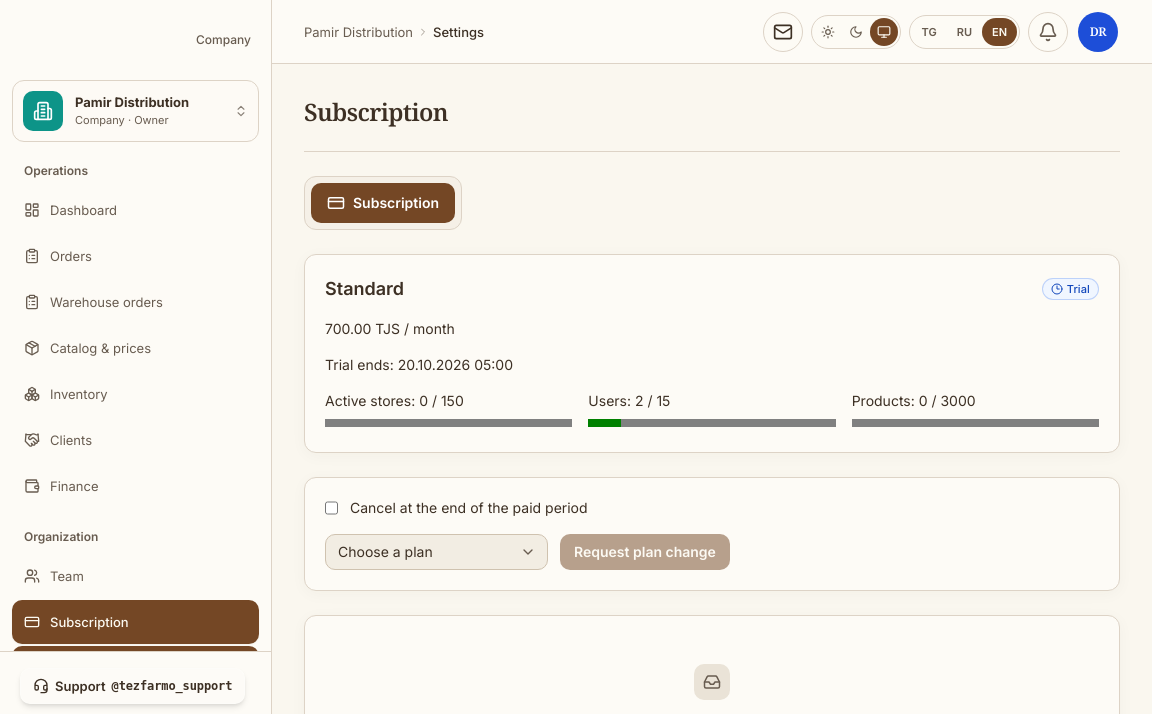
Test: shows company status, limits and payment history and captures tenant for plan requests
Check: the heading "Standard" is shown, box top-left (325, 275), bottom-right (404, 303)
Check: the text "Users: 2 / 15" is shown, box top-left (588, 392), bottom-right (670, 409)
Select "STANDARD — 700.00 TJS" in the dropdown named "Plan" at (436, 552), box top-left (325, 534), bottom-right (548, 570)
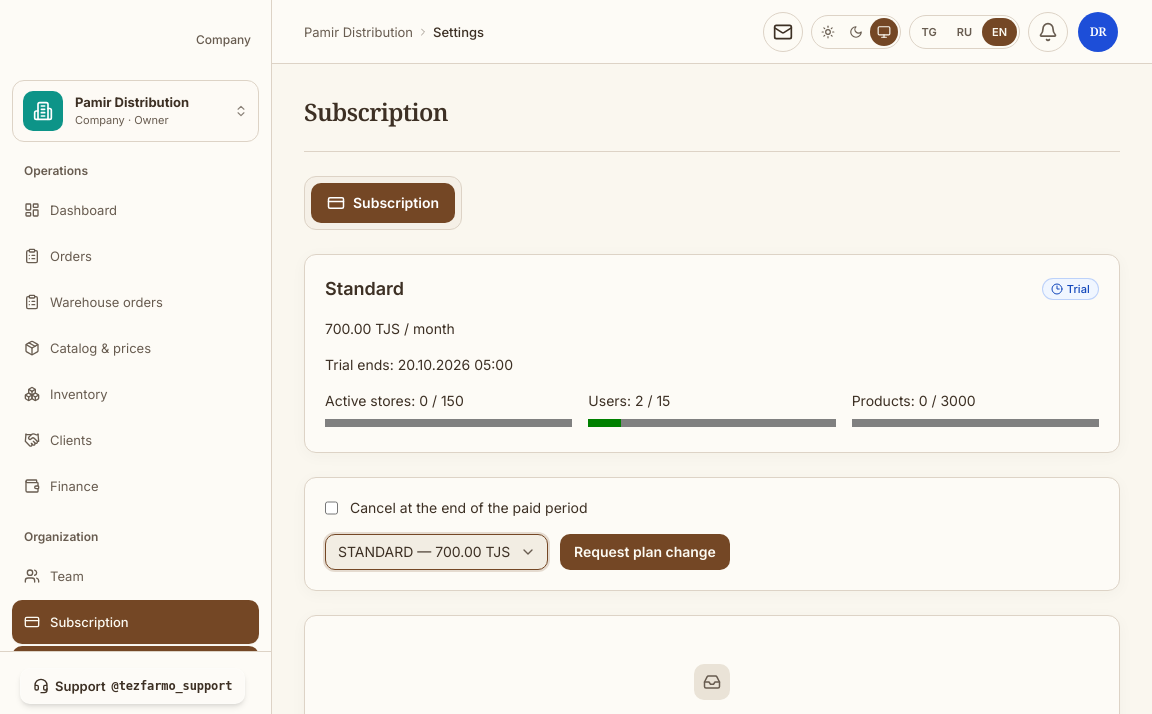
Click the button "Request plan change" at (645, 552), box top-left (560, 534), bottom-right (730, 570)
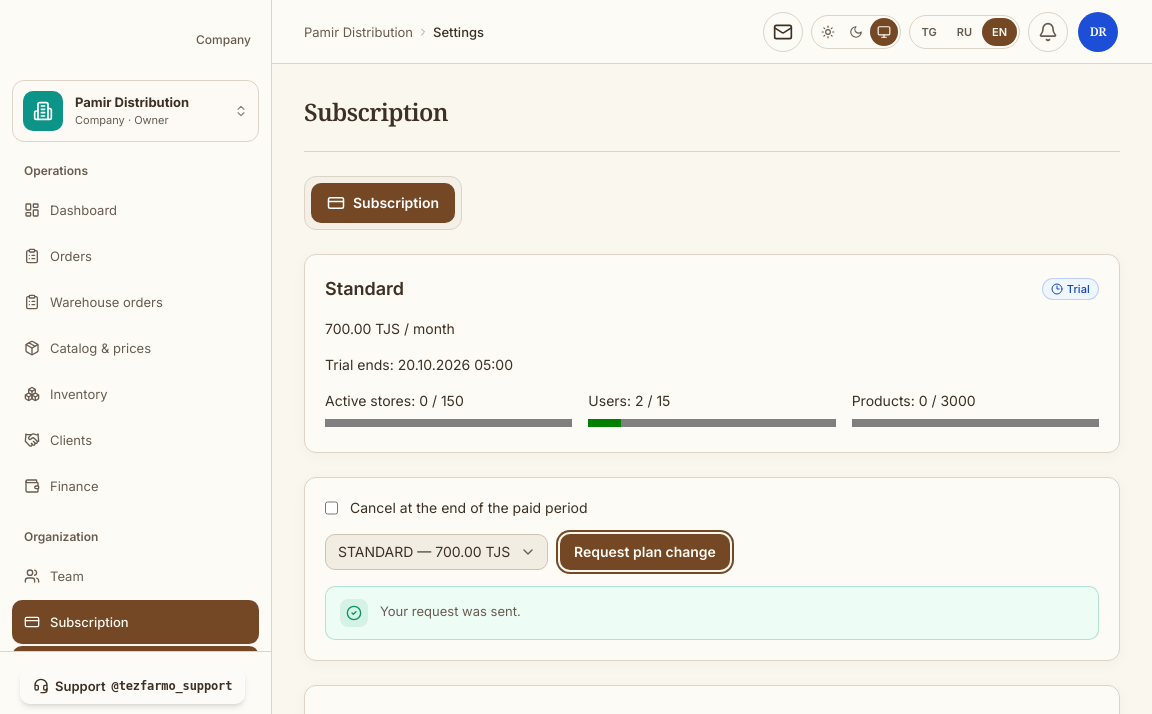
Check: the text "Your request was sent." is shown, box top-left (380, 603), bottom-right (521, 619)
